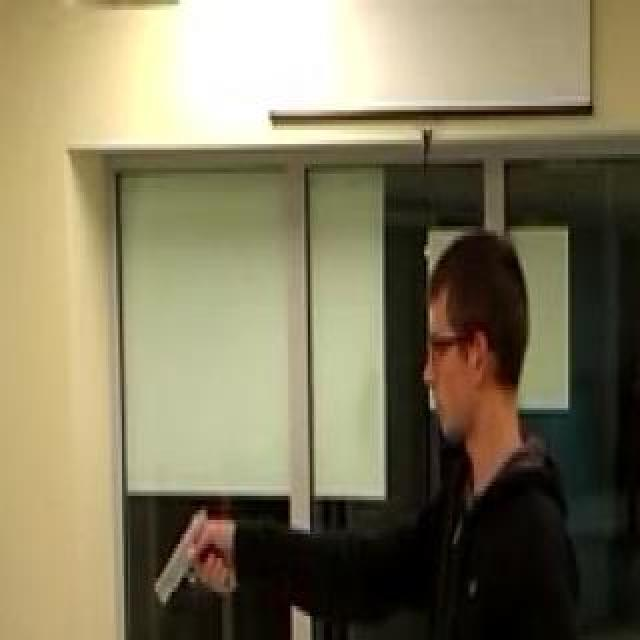Guns: (146, 506, 245, 604)
